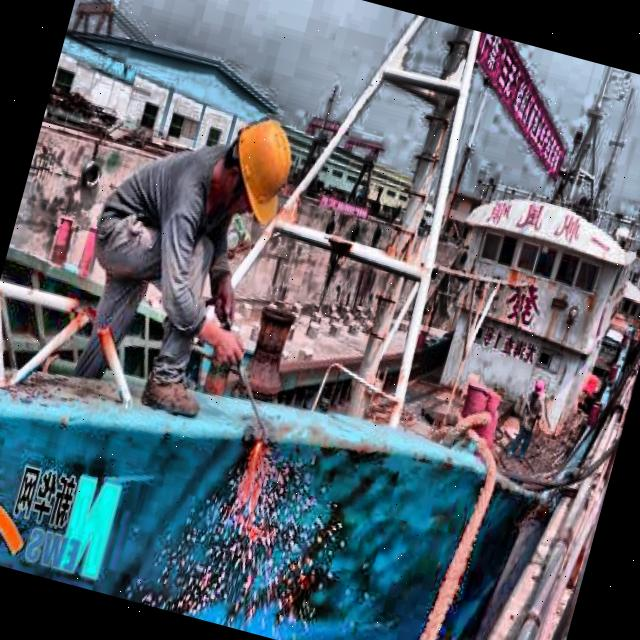helmet: (203, 99, 320, 237)
